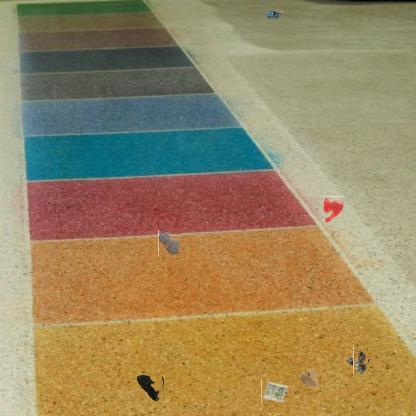dirty: (136, 374, 164, 402), (261, 378, 290, 404), (298, 367, 320, 389), (350, 350, 371, 371), (264, 8, 286, 22)
liquid: (158, 230, 181, 256), (322, 196, 344, 223)
